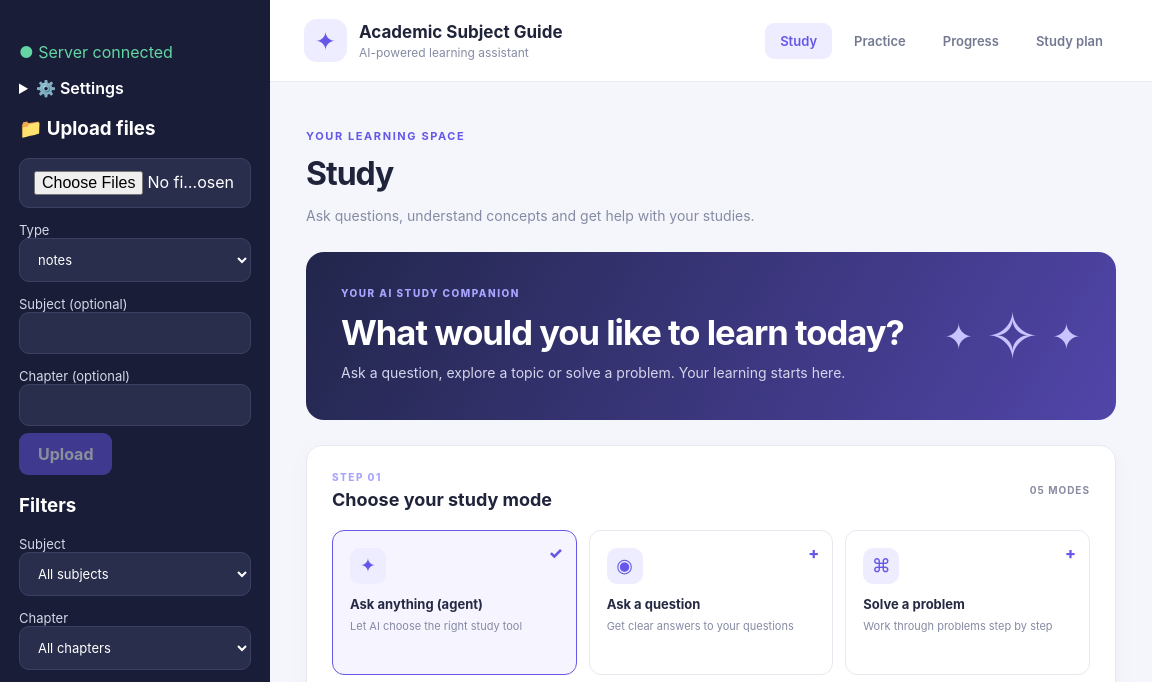
Test: other pages › shows progress and weak areas, and revises a weak chapter
Later steps or results of the test are not shown.
Click the button "Progress": [971, 40] box 928,22 -> 1014,58
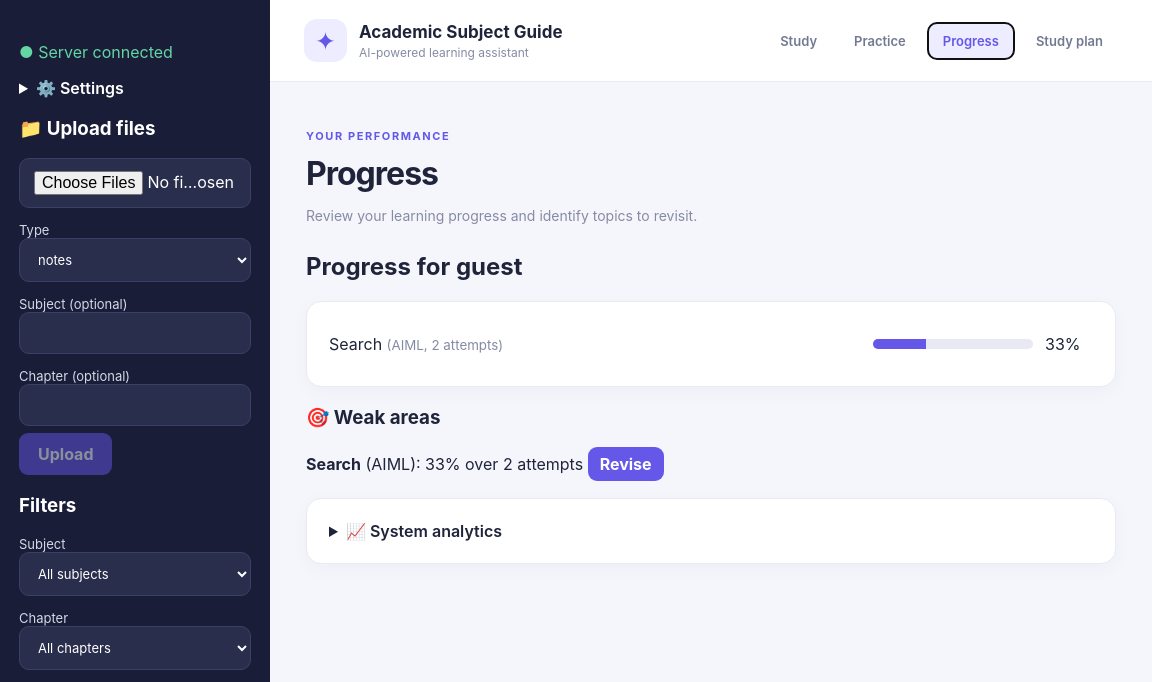
Check: the text "33%" is shown, box 1045,334 -> 1080,354
